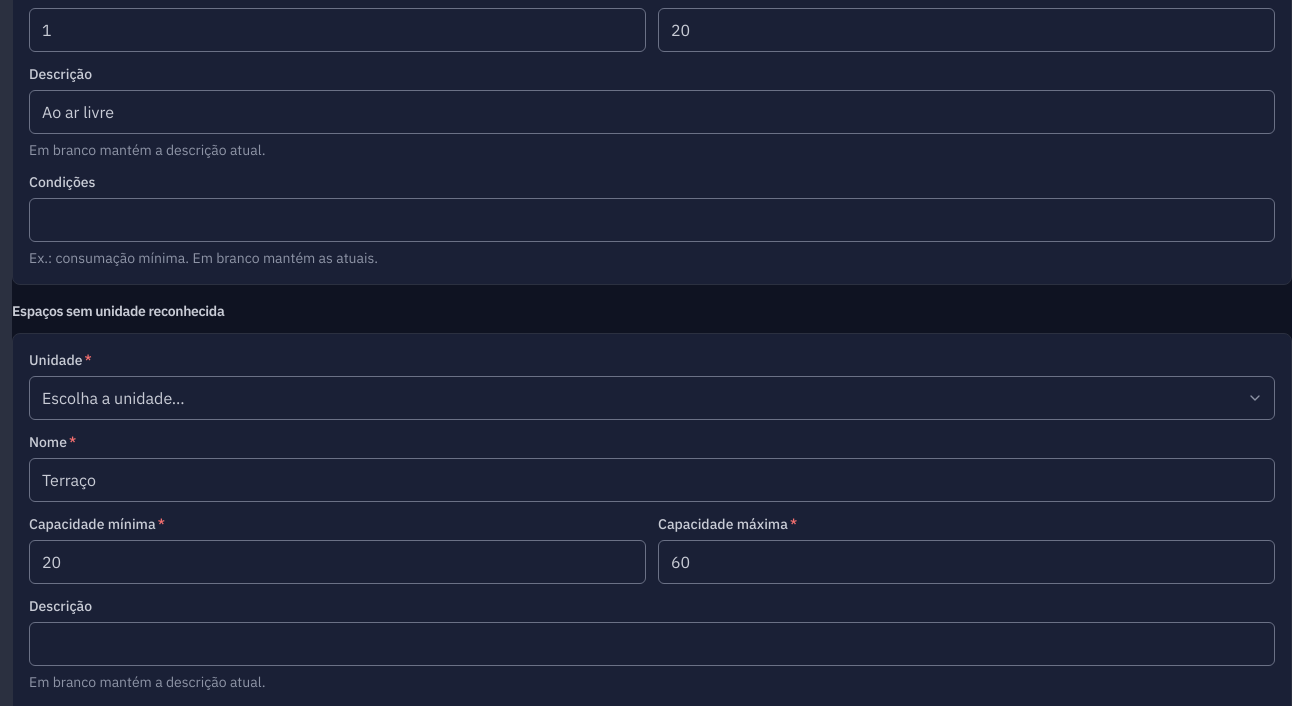
Test: RevisaoEspacos › unidade escolhida à mão e nome editado: Novo/Atualiza pelo cadastro
(page scrolled)
Expected: the text "Novo" is not shown
Select "Asa Sul" in the dropdown labelled "Unidade*" at (652, 398), box [29, 376, 1275, 420]
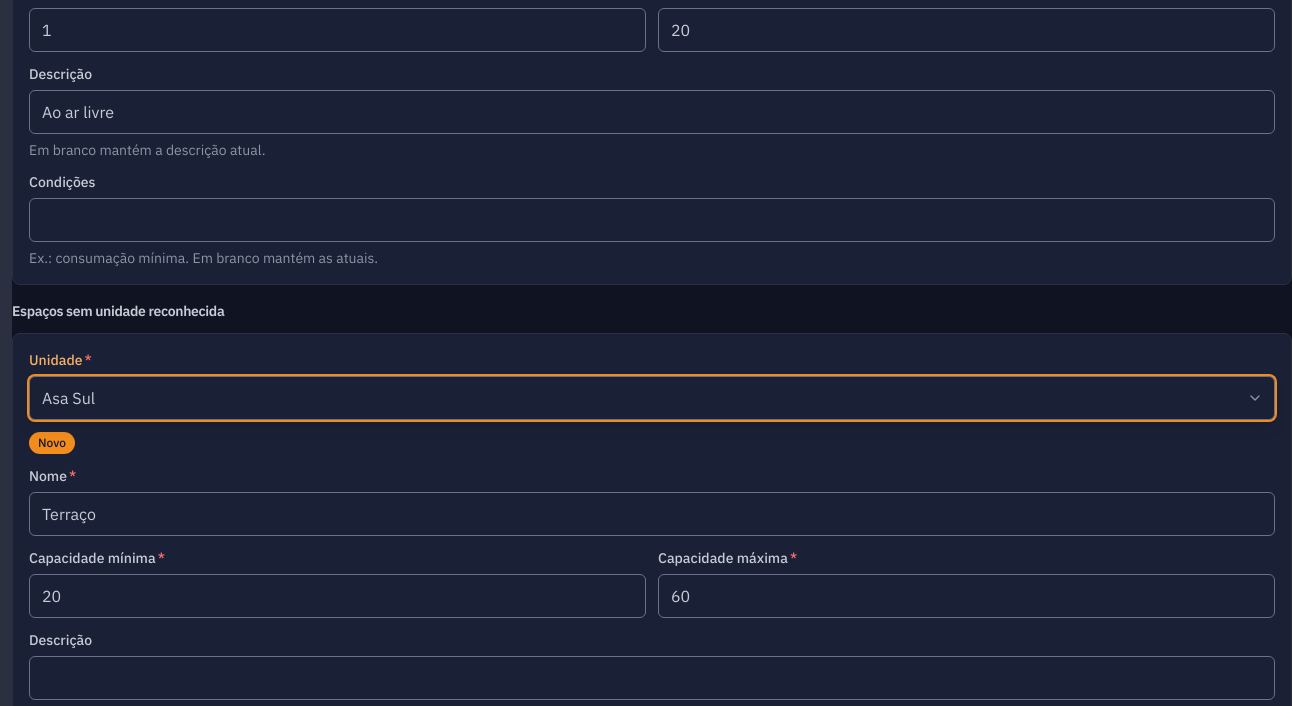
Expected: the text "Novo" is shown, [29, 432, 75, 454]
Select "Lago Norte" in the dropdown labelled "Unidade*" at (652, 398), box [29, 376, 1275, 420]
(page scrolled)
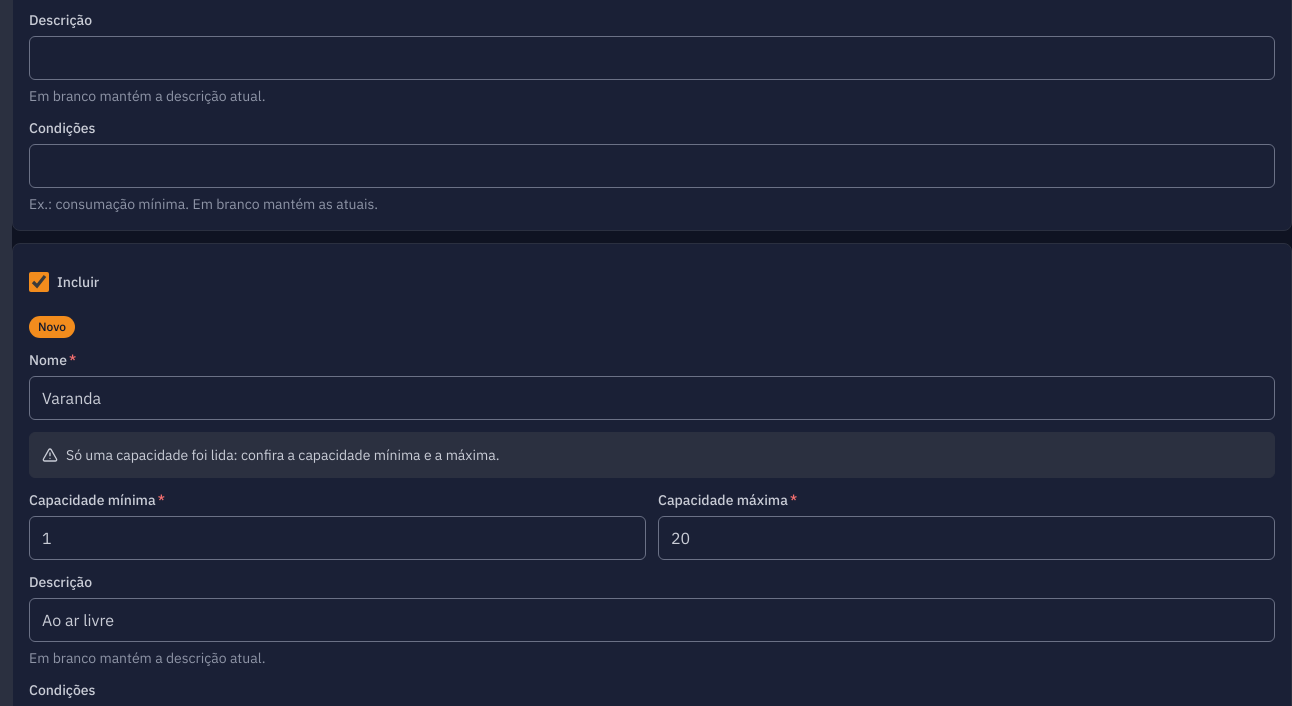
# renomear a Varanda para um espaço que já existe na unidade: passa a atualizar
Replace the text in the field labelled "Nome*" with "salao" at (652, 398), box [29, 376, 1275, 420]
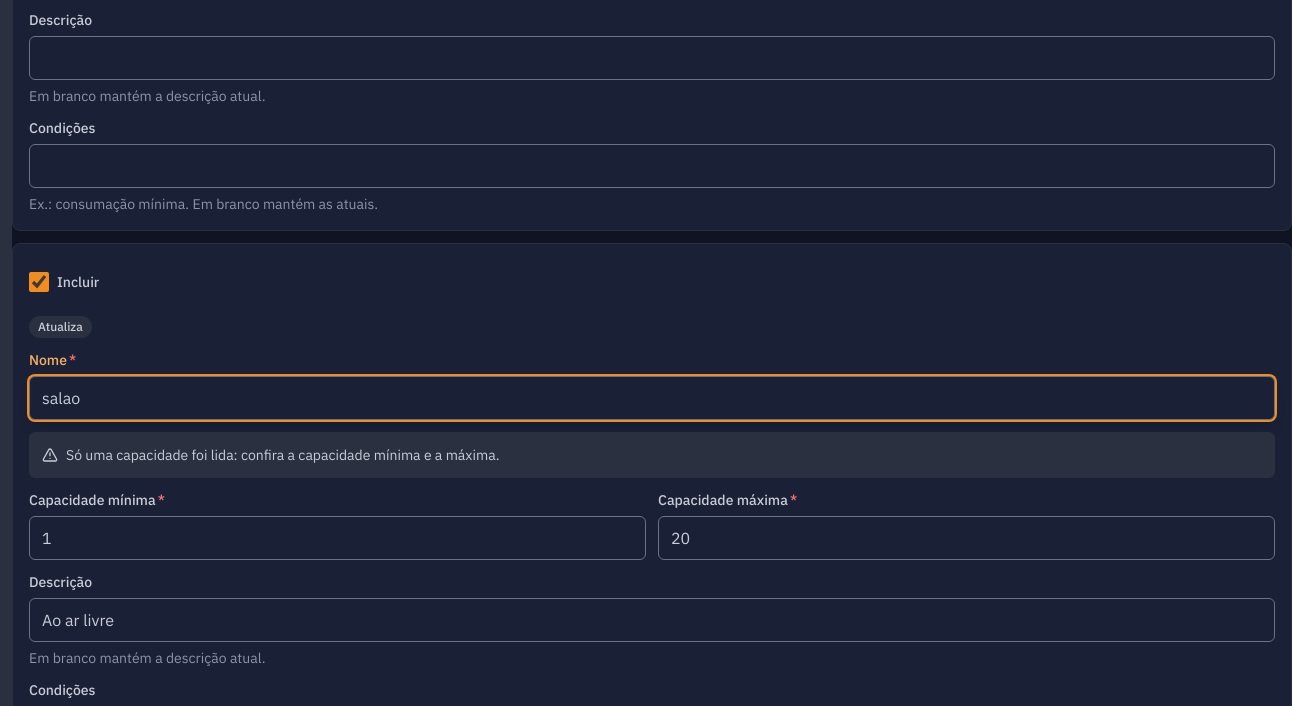
Expected: the text "Atualiza" is shown, [29, 316, 92, 338]
